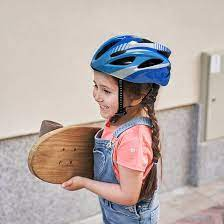helmets: (89, 35, 173, 86)
